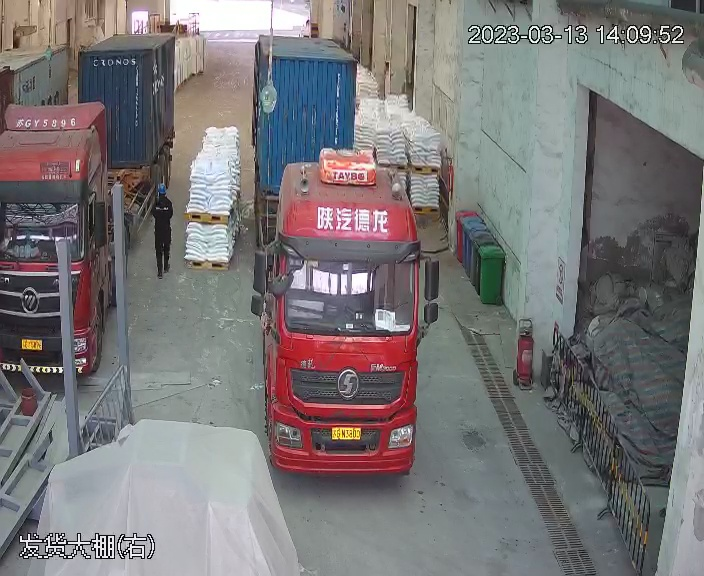head: (151, 182, 174, 210)
helmet: (156, 183, 167, 193)
people: (147, 181, 174, 277)
truck: (248, 31, 428, 484), (1, 31, 180, 377)
